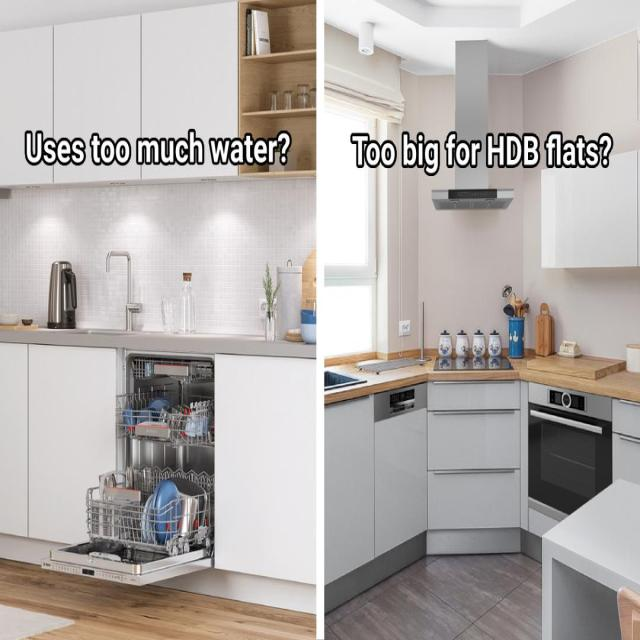dishwasher: (47, 356, 220, 591), (371, 379, 428, 582)
